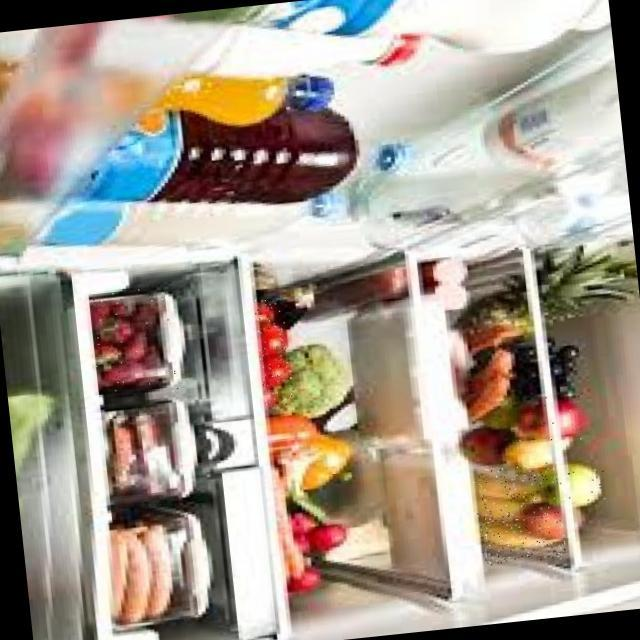Manzana: (514, 392, 587, 447), (545, 468, 606, 505)
Plátano: (472, 460, 566, 567)
Tomate: (252, 297, 293, 410)
strawberry: (87, 284, 177, 400)
